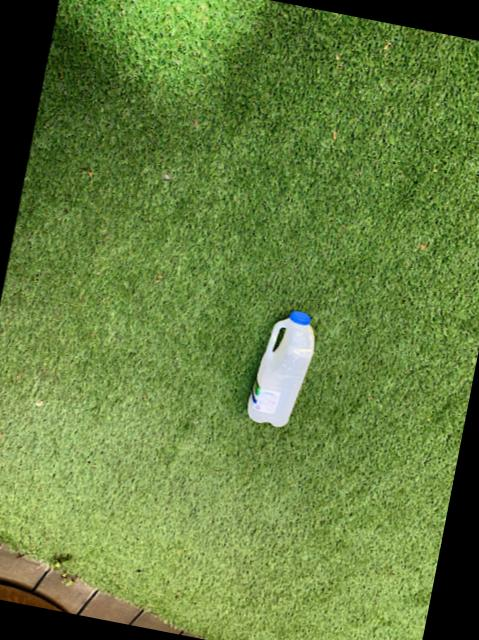plastic: (245, 312, 311, 427)
